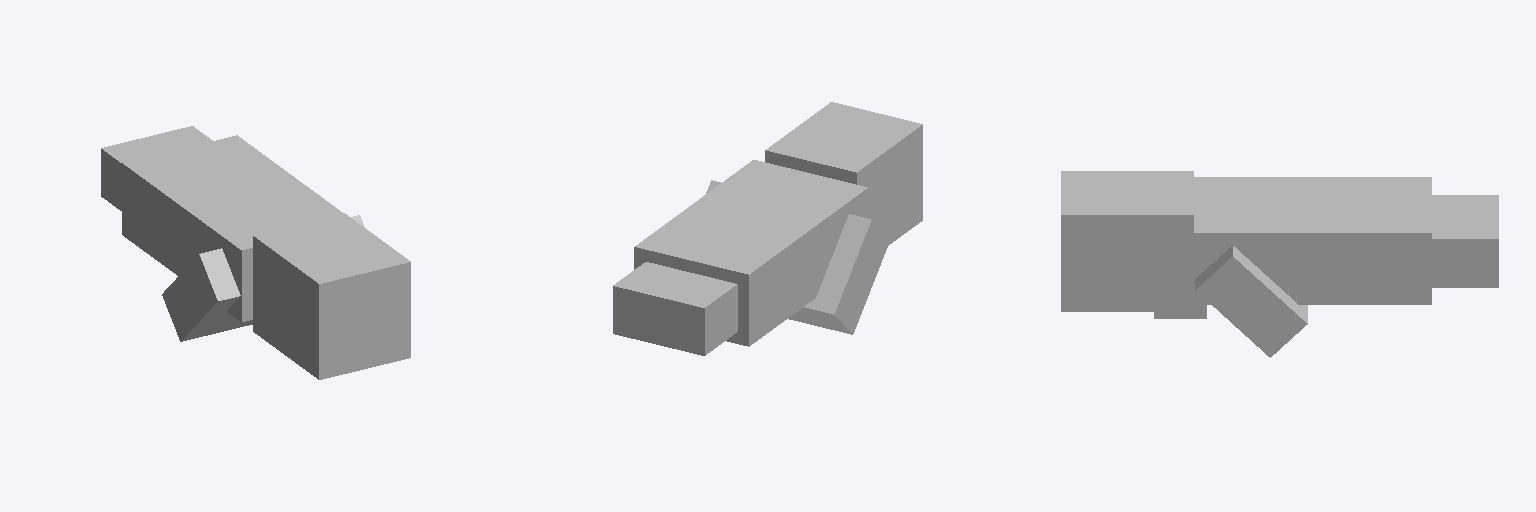
File: Villager.obj
3 renders of one model, left to right at view 1: azimuth 30°, elevation 25°; view 2: azimuth 150°, elevation 25°; view 3: azimuth 270°, elevation 25°, orthographic.
Parts seen in each view (by area): view 1: obj_0; view 2: obj_0; view 3: obj_0.
Boxes of the visible parts, x1,y1,x2,y2 form: obj_0: [101, 126, 410, 379]; obj_0: [613, 102, 922, 355]; obj_0: [1061, 171, 1498, 357].
Size of the model in its own units: 140 by 105 by 330.